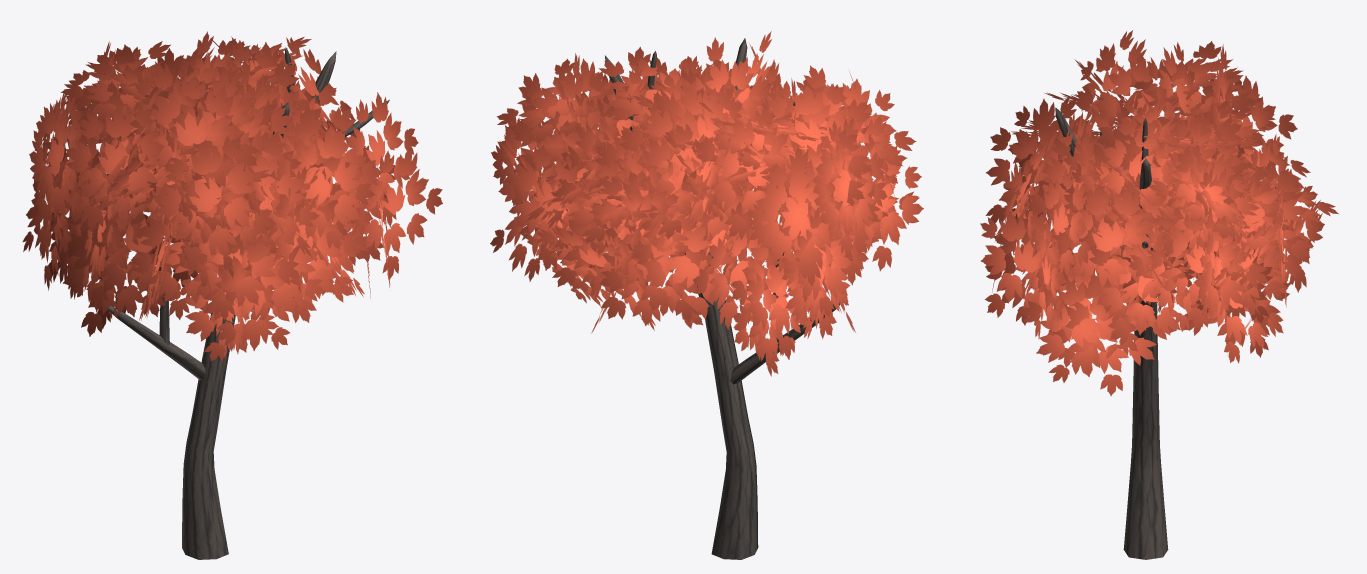
File: bgmaple4.glb
3 views of the same model, side by side, from view 1: azimuth 30°, elevation 25°; view 2: azimuth 150°, elevation 25°; view 3: azimuth 270°, elevation 25° (orthographic). The views are drawn at different scales.
Visible parts, largest first — view 1: MapleTree_4; view 2: MapleTree_4; view 3: MapleTree_4.
Part boxes in pixels (bbox=[...]): MapleTree_4: bbox=[22, 31, 442, 559]; MapleTree_4: bbox=[490, 31, 923, 559]; MapleTree_4: bbox=[980, 30, 1338, 559].
Bounding box in the file's own units: 2.77 × 3.59 × 2.43.
2 materials, 2 textured.
